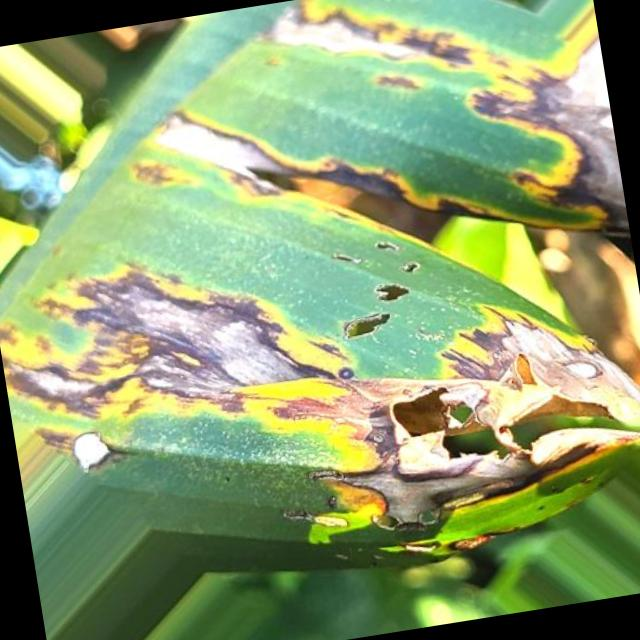Banana_Black_Sigatoka: (140, 0, 627, 286), (265, 275, 640, 635), (0, 222, 366, 482)
